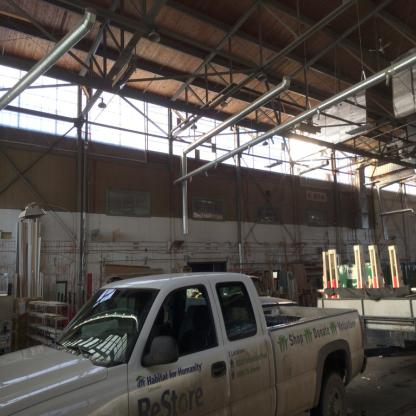Truck: (3, 276, 378, 415)
